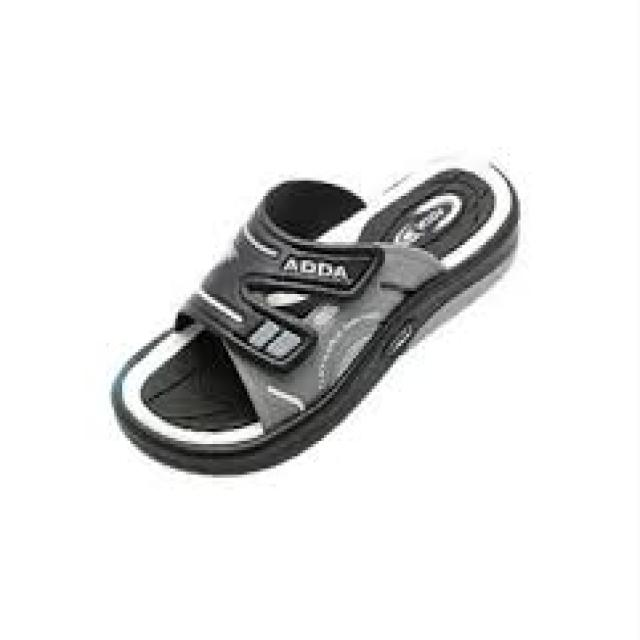shoe: (107, 156, 525, 477)
